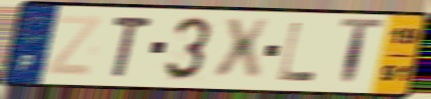3: (162, 14, 216, 84)
L: (276, 20, 319, 83)
T: (337, 16, 387, 91), (110, 14, 156, 80)
X: (212, 17, 274, 84)
Z: (44, 13, 106, 79)
